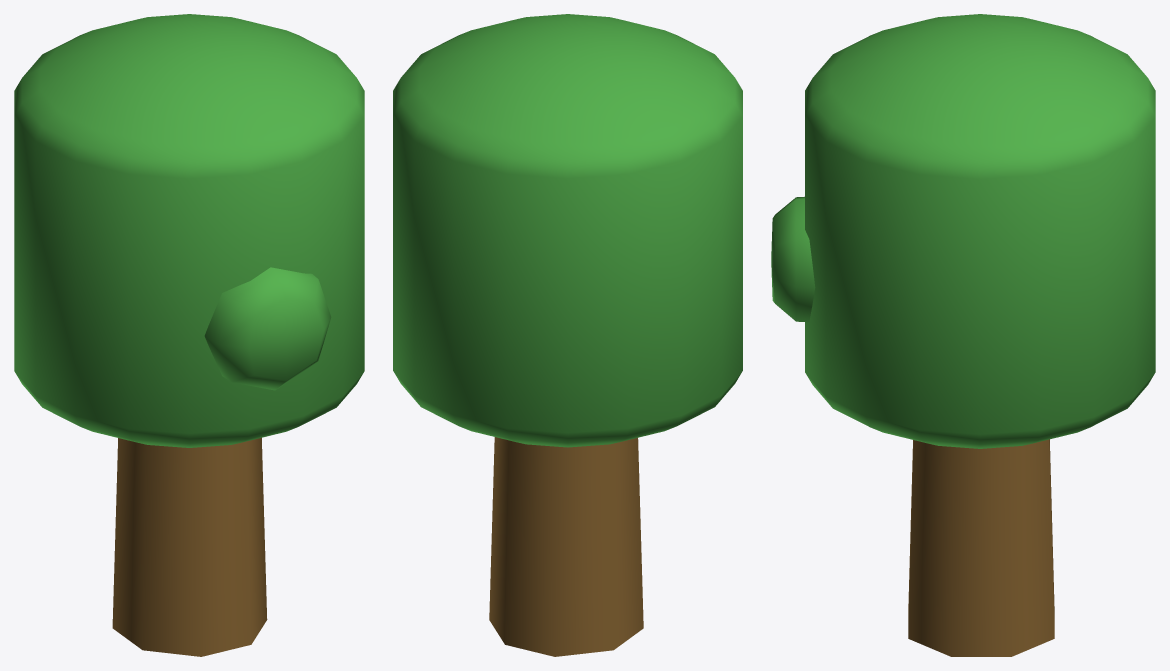
The model's file is tree01_s03.FBX.
3 renders of one model, left to right at view 1: azimuth 30°, elevation 25°; view 2: azimuth 150°, elevation 25°; view 3: azimuth 270°, elevation 25°, orthographic.
Visible parts, largest first — view 1: tree01_s03; view 2: tree01_s03; view 3: tree01_s03.
Part boxes in pixels (left/top/right/bottom): tree01_s03: left=14, top=14, right=364, bottom=656; tree01_s03: left=393, top=14, right=742, bottom=656; tree01_s03: left=771, top=14, right=1155, bottom=656.
Bounding box in the file's own units: 151 × 163 × 273.
1 material, 1 textured.
